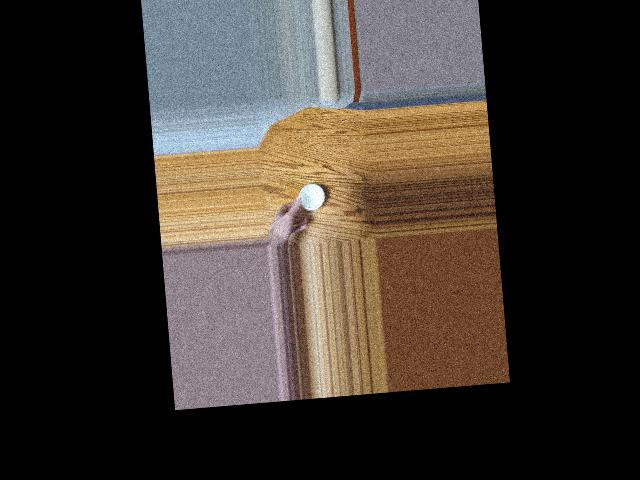cotage: (293, 179, 327, 214)
